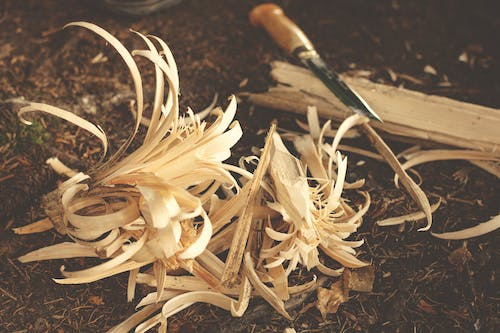knife: (248, 2, 387, 124)
